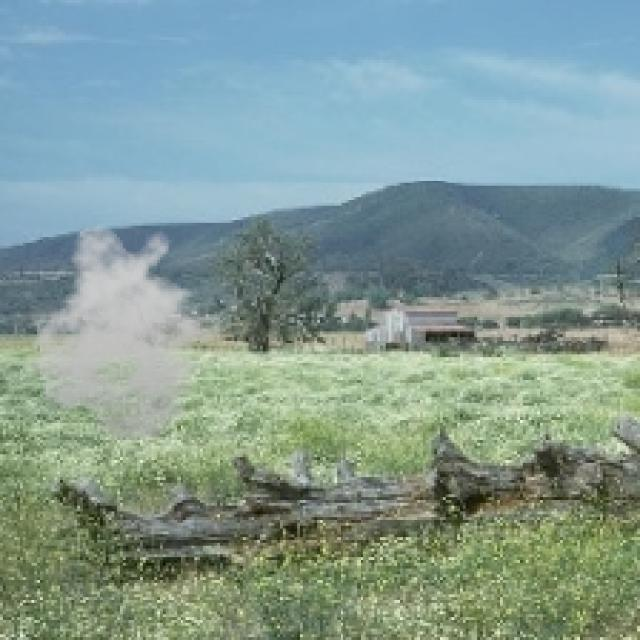Smoke: (20, 223, 226, 443)
